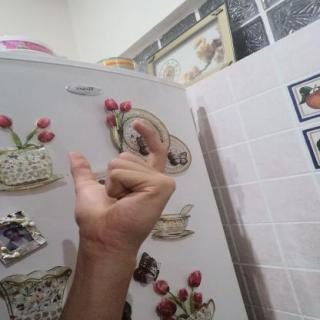NOON: (57, 114, 185, 257)
